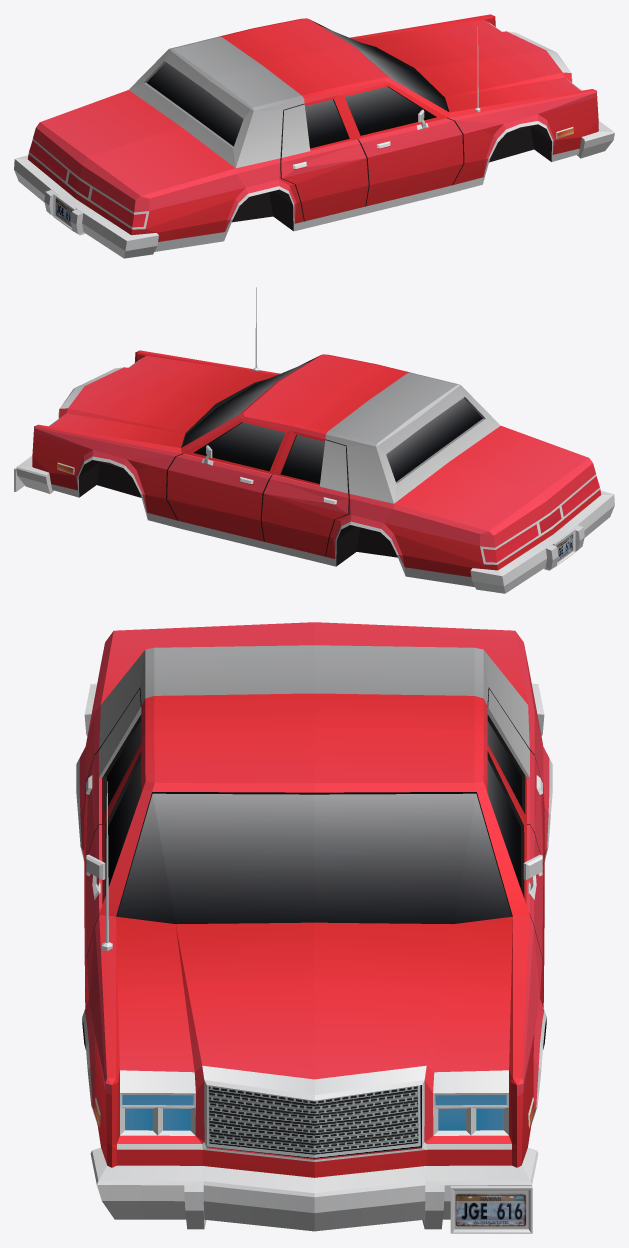
File: crysler.glb
3 renders of one model, top to bottom at view 1: azimuth 30°, elevation 25°; view 2: azimuth 150°, elevation 25°; view 3: azimuth 270°, elevation 25°, orthographic. The views are drawn at different scales.
Visible parts, largest first — view 1: Crysler; view 2: Crysler; view 3: Crysler.
Part boxes in pixels (left/top/right/bottom): Crysler: left=14, top=14, right=614, bottom=258; Crysler: left=14, top=287, right=614, bottom=593; Crysler: left=76, top=622, right=552, bottom=1233.
Bounding box in the file's own units: 4.94 × 1.48 × 1.99.
1 material, 1 textured.
